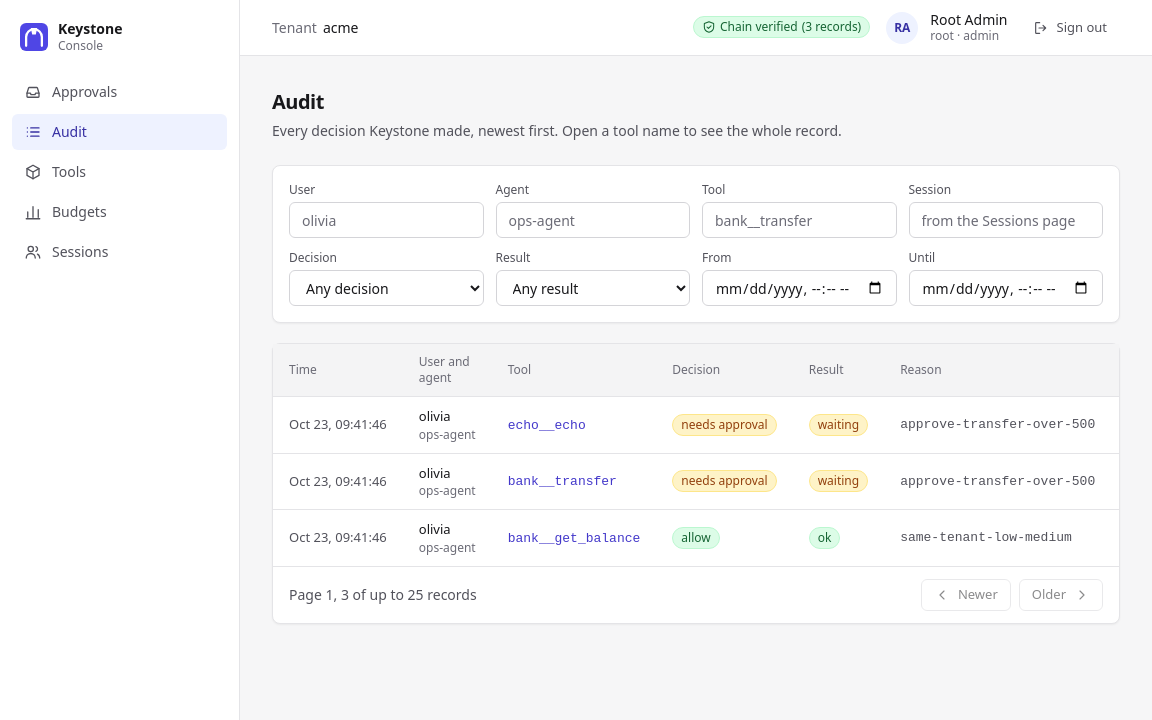
it: filters by session
Expected: the button "bank__get_balance" is shown, [508,528,640,548]
Type "sess-mine" into the field labelled "Session" at (1006, 220), box [908,202,1103,238]
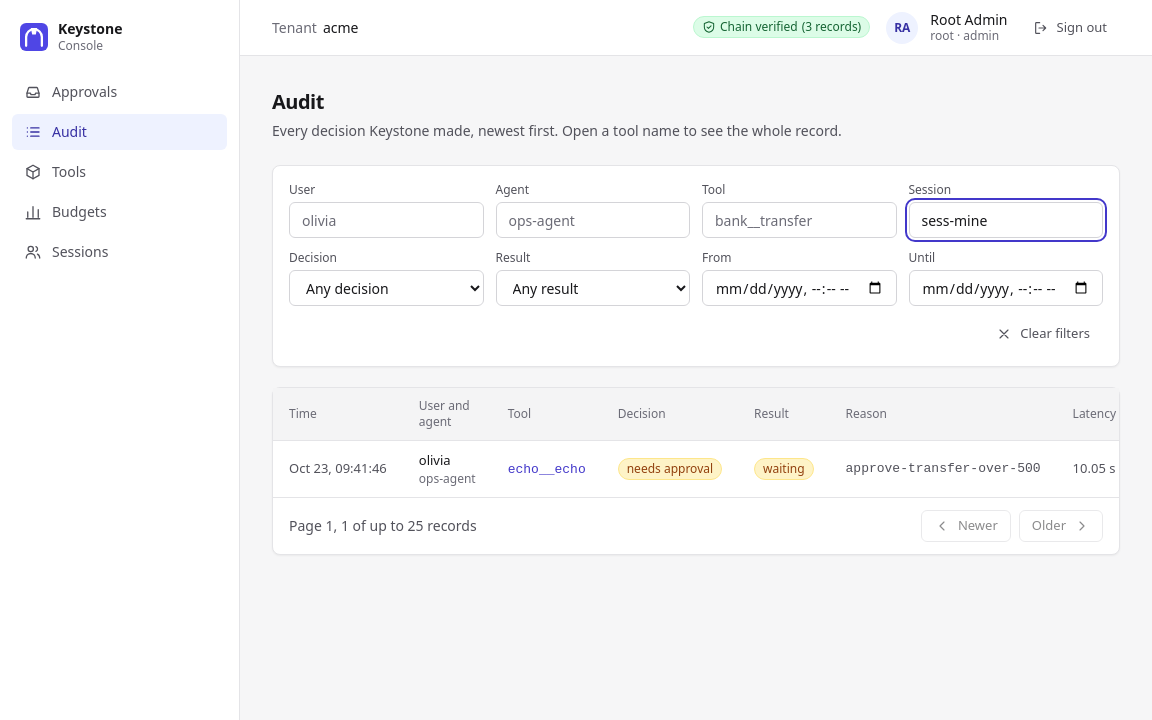
Expected: the button "echo__echo" is shown, [508,460,586,479]
Expected: the button "bank__get_balance" is gone
